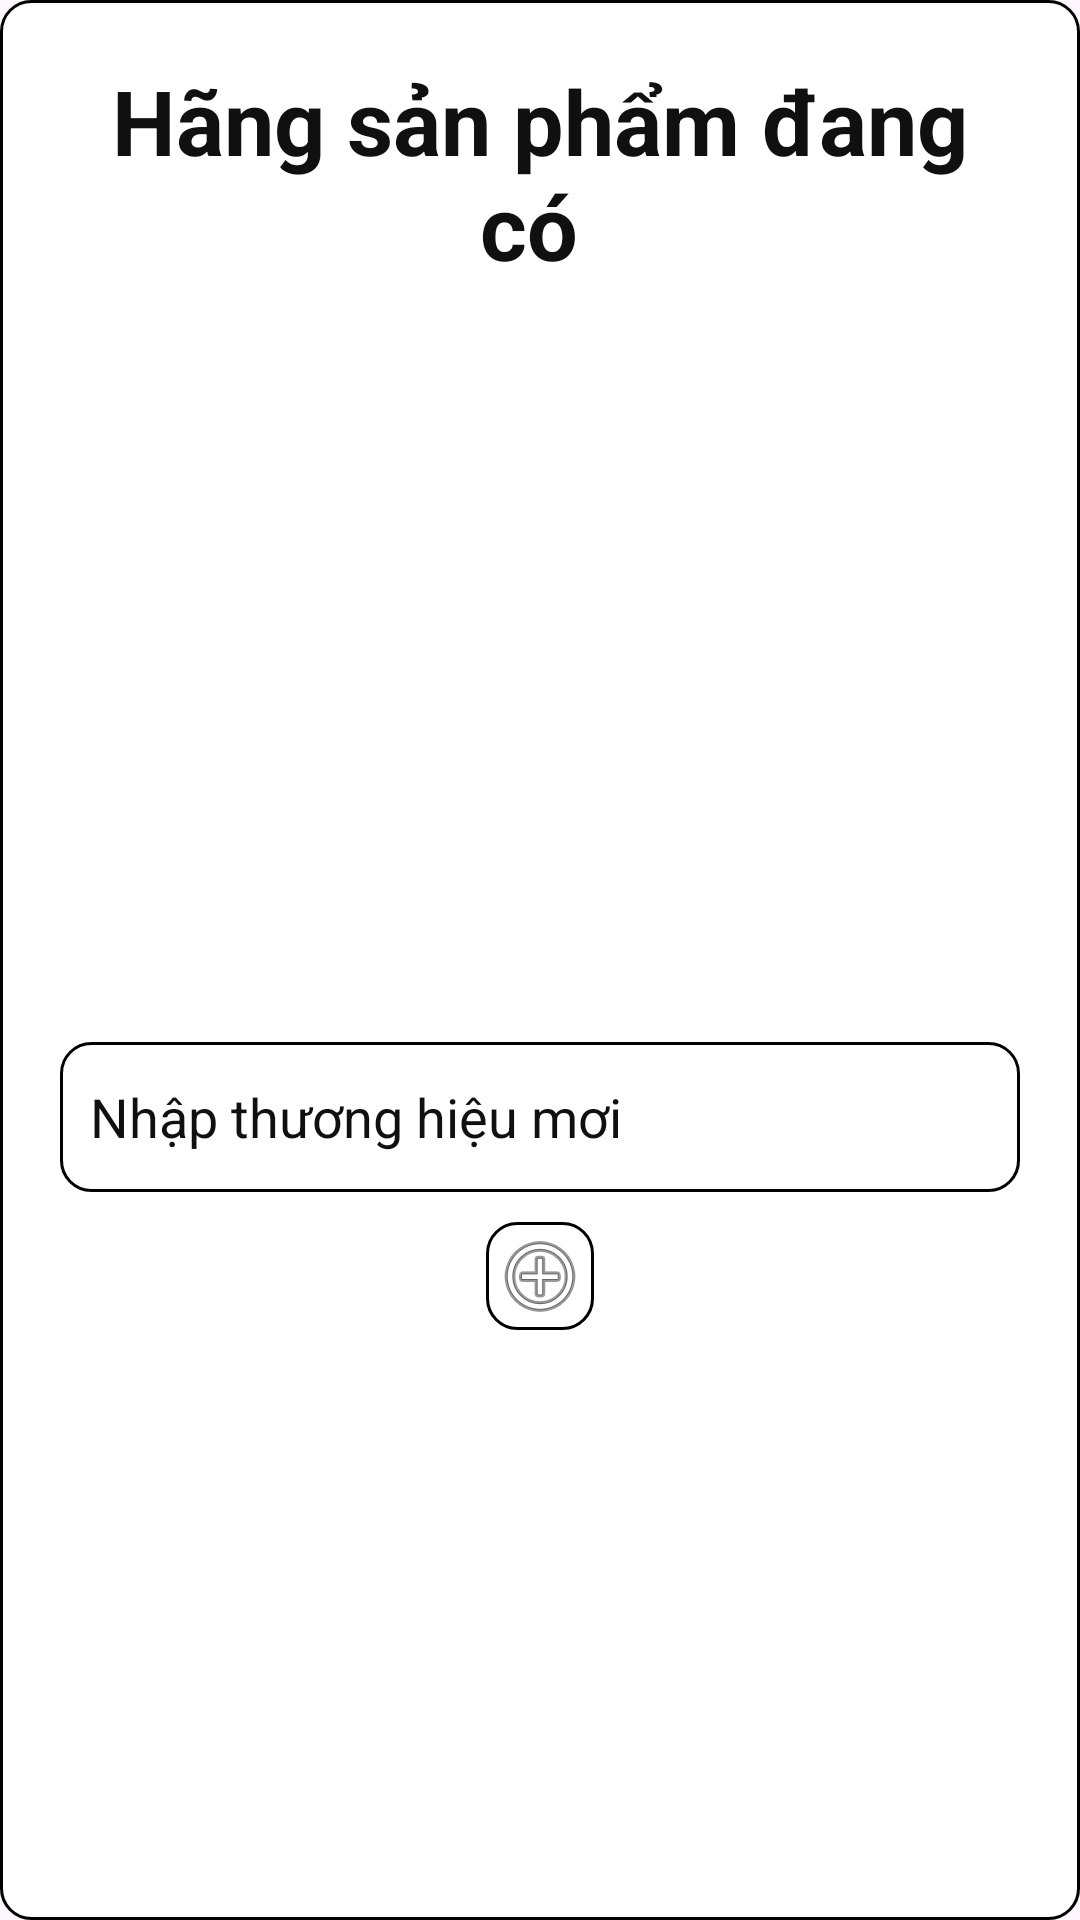

Where to tap for icons on this 1080px×1920px app screen, as [x,y]:
add: [540,1276]
